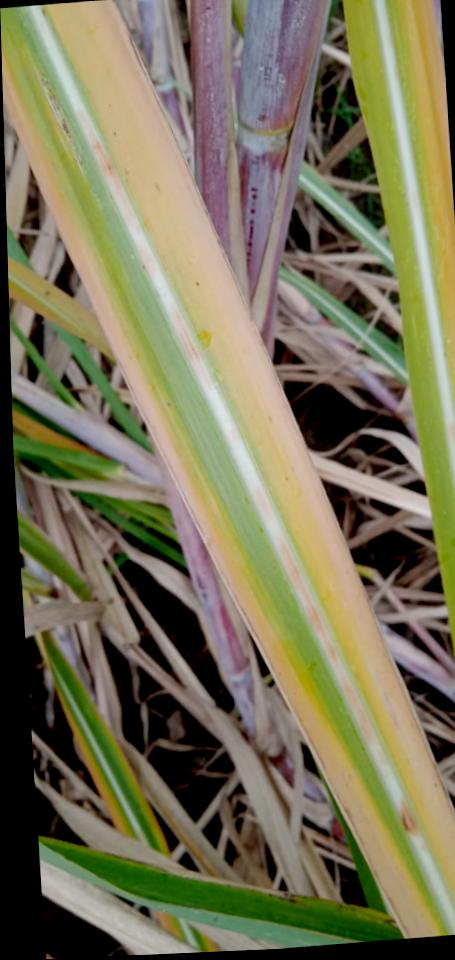RedRot: (274, 540, 340, 666), (339, 672, 376, 747), (170, 302, 201, 361), (89, 137, 119, 191), (399, 799, 420, 837), (253, 487, 269, 514)
Rust: (34, 74, 83, 173)
Yellow: (2, 55, 444, 937), (42, 0, 455, 893), (399, 0, 455, 418), (56, 688, 132, 838), (99, 717, 168, 858)
